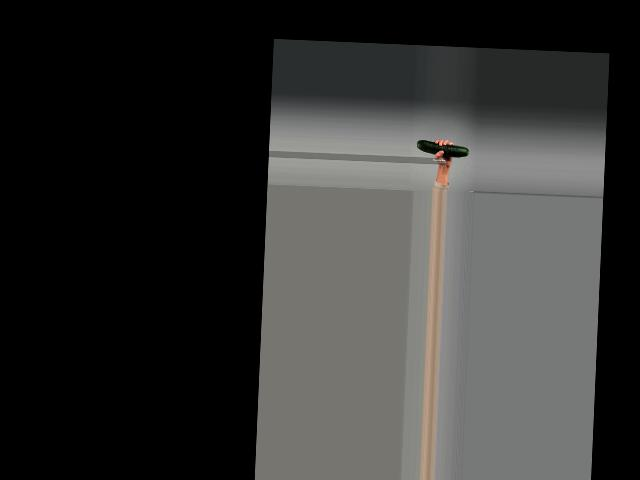cucumber: (416, 139, 467, 157)
